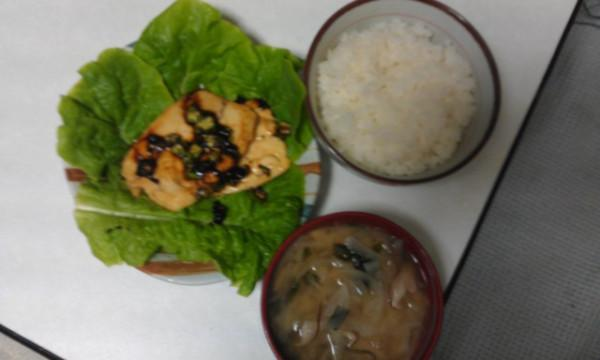rice: (319, 19, 476, 175)
